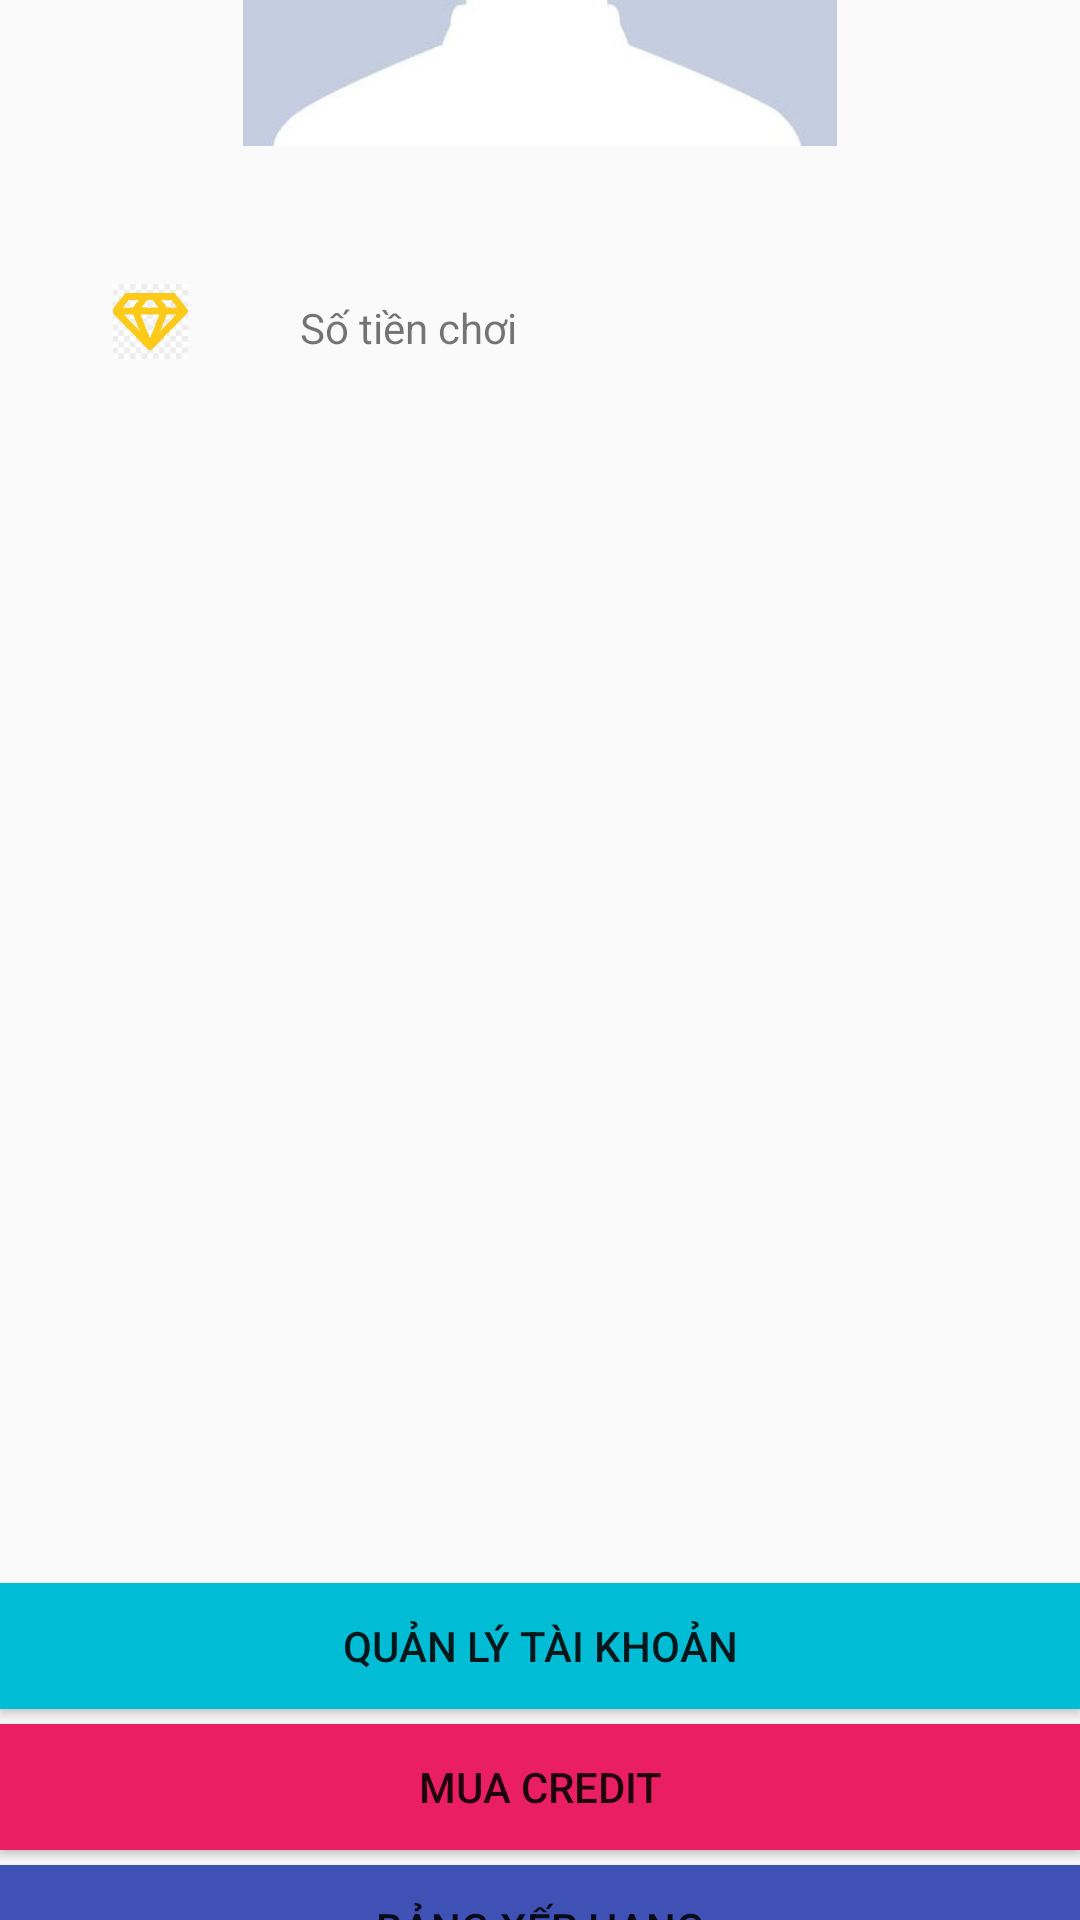

Icon bounding boxes for this 1080px×1920px phone screenshot, format (x1,y1,x2,y2):
kim cuong: (113,290,188,351)
